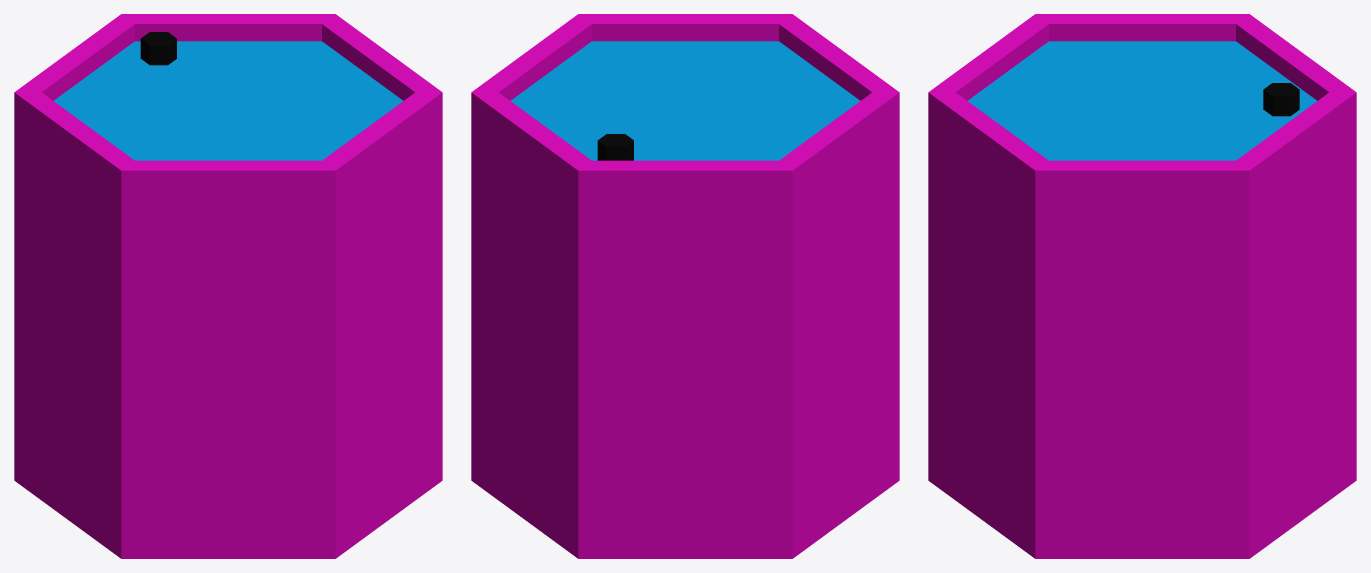
File: onionFuel.fbx
3 views of the same model, side by side, from view 1: azimuth 30°, elevation 25°; view 2: azimuth 150°, elevation 25°; view 3: azimuth 270°, elevation 25° (orthographic).
Parts seen in each view (by area): view 1: Fuel; view 2: Fuel; view 3: Fuel.
Part boxes in pixels (left/top/right/bottom): Fuel: left=14, top=14, right=442, bottom=558; Fuel: left=471, top=14, right=899, bottom=558; Fuel: left=928, top=14, right=1356, bottom=558.
Size of the model in its own units: 0.866 by 1.01 by 1.
